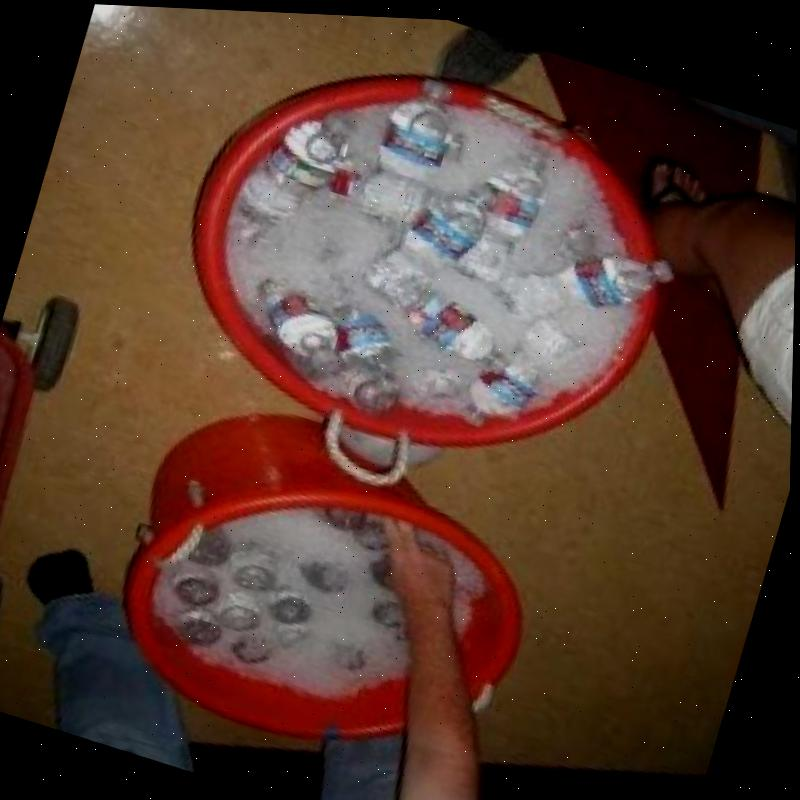botella: (495, 204, 682, 355), (345, 241, 529, 373), (354, 152, 499, 319), (443, 114, 563, 289), (359, 59, 467, 224), (228, 99, 354, 237), (461, 307, 577, 442), (244, 267, 351, 370), (323, 294, 416, 406), (322, 150, 432, 222)
